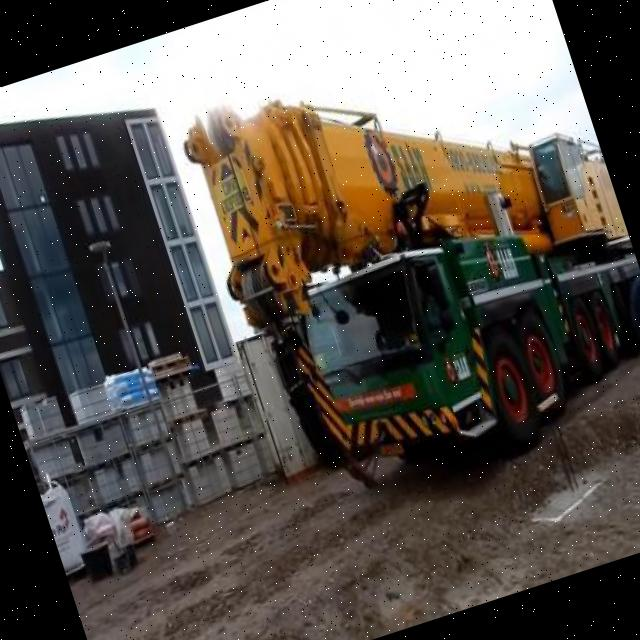Mobile Crane: (177, 7, 640, 512)
